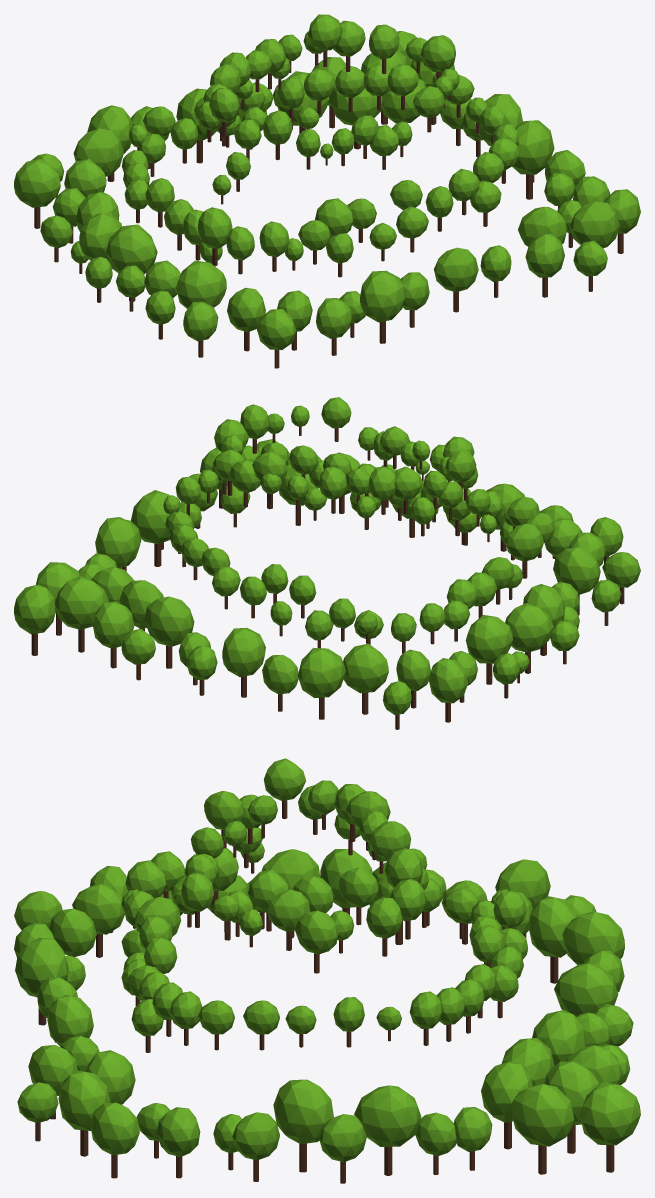
The model's file is all trees.fbx.
3 views of the same model, one above another, from view 1: azimuth 30°, elevation 25°; view 2: azimuth 150°, elevation 25°; view 3: azimuth 270°, elevation 25° (orthographic). The views are drawn at different scales.
Parts seen in each view (by area): view 1: Cube.412; view 2: Cube.412; view 3: Cube.412.
Boxes of the visible parts, <box> form: Cube.412: <box>14,14,640,368</box>; Cube.412: <box>14,397,640,729</box>; Cube.412: <box>14,758,640,1183</box>.
Bounding box in the file's own units: 170 × 65.75 × 162.
1 material, 1 textured.
